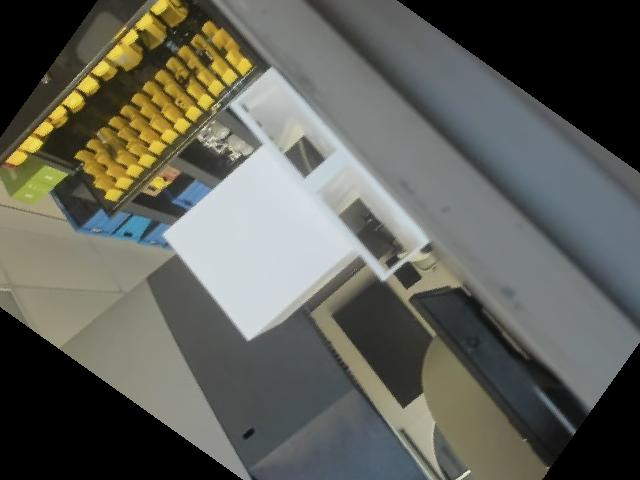white pallet: (155, 49, 437, 358)
